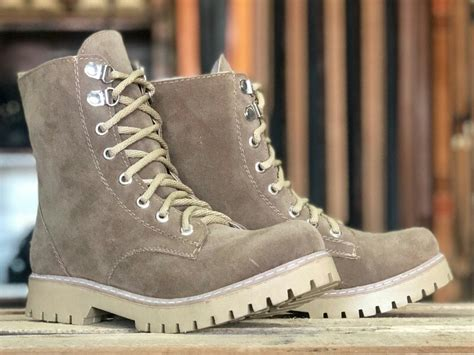gamuza: (14, 29, 445, 300)
